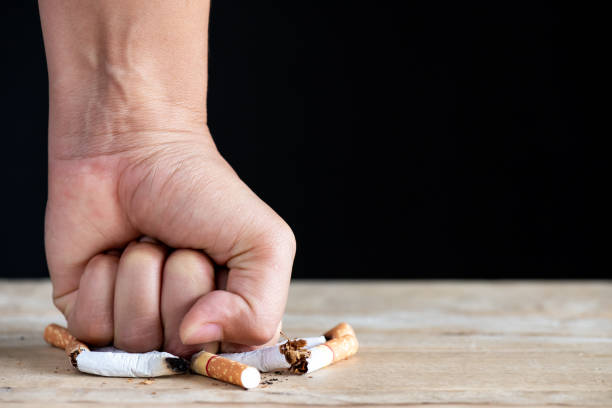cigarette: (73, 348, 189, 379), (289, 334, 360, 377), (188, 351, 263, 390), (217, 341, 302, 371), (40, 324, 91, 370), (293, 323, 356, 351)
